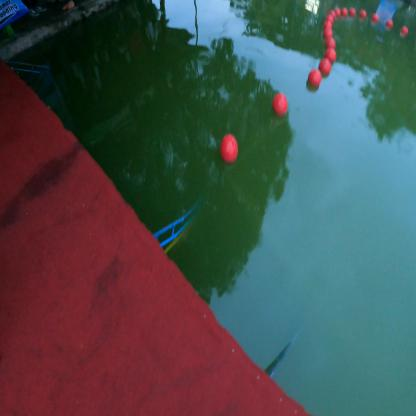red_buoy: (219, 126, 240, 168), (272, 89, 290, 118), (324, 42, 342, 64), (307, 64, 321, 92), (319, 52, 333, 79), (324, 35, 340, 54), (322, 26, 335, 41), (322, 19, 335, 33)
